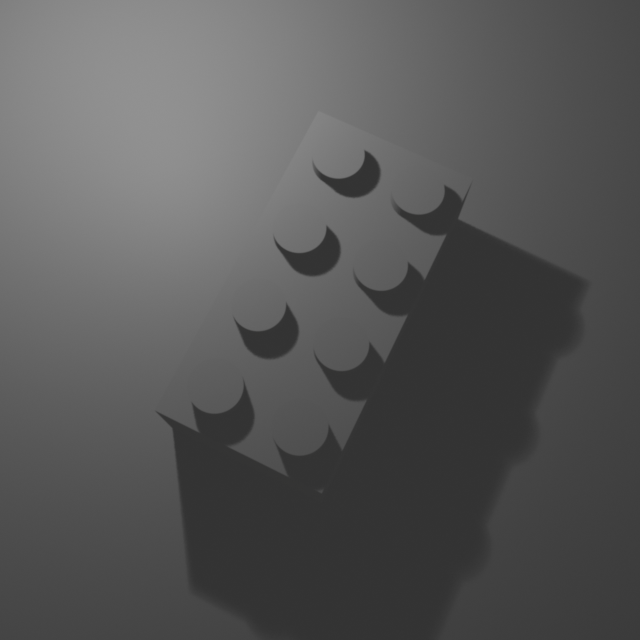lego_2x4: (151, 102, 476, 503)
